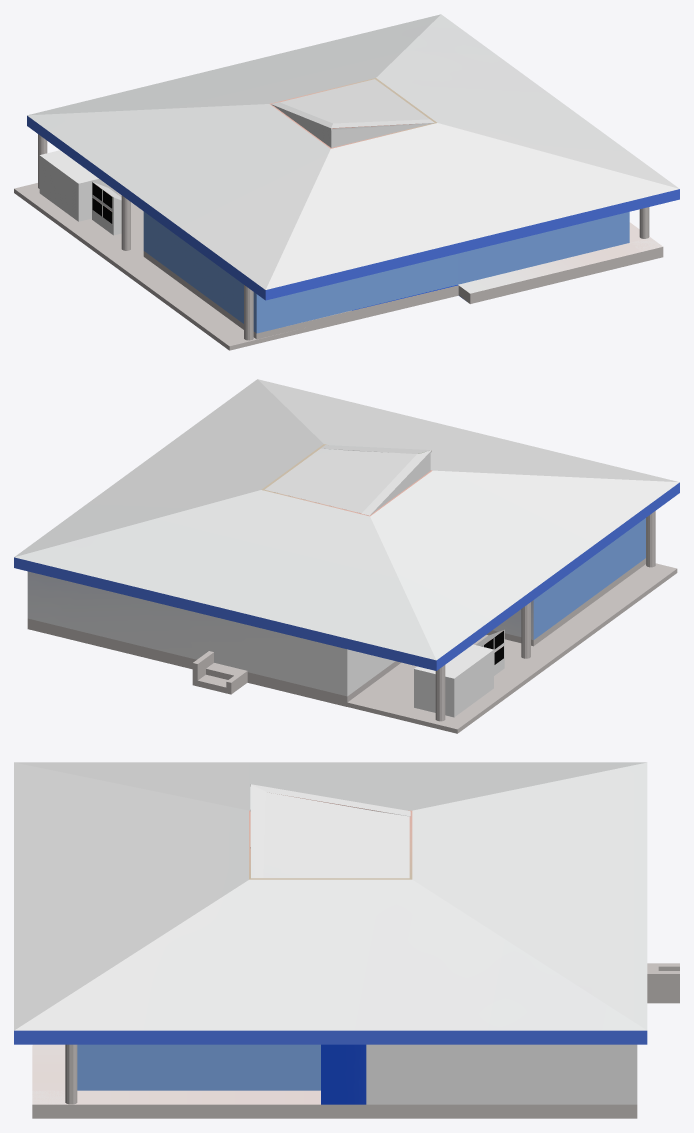
Rendered from syoku.glb.
The picture shows the model from 3 angles, top to bottom: view 1: azimuth 30°, elevation 25°; view 2: azimuth 150°, elevation 25°; view 3: azimuth 270°, elevation 25°; orthographic projection. The views are drawn at different scales.
Visible parts, largest first — view 1: 食堂・屋根・土台, 食堂, 立方体.014, 食堂・屋根・上の部分, 立方体.365, 立方体.366, 立方体.356, 平面.001, 平面.004; view 2: 食堂・屋根・土台, 食堂, 立方体.014, 食堂・屋根・上の部分, 立方体.365, 立方体.387, 立方体.357, 平面.002, 平面.001, 平面.004; view 3: 食堂・屋根・土台, 食堂, 食堂・屋根・上の部分, 立方体.356, 立方体.387, 立方体.357, 平面.003.
Part boxes in pixels (x1,y1,x2,y2): 食堂・屋根・土台: (27, 14, 679, 300); 食堂: (143, 211, 663, 339); 立方体.014: (14, 183, 351, 350); 食堂・屋根・上の部分: (275, 79, 429, 147); 立方体.365: (39, 150, 117, 221); 立方体.366: (92, 182, 121, 235); 立方体.356: (331, 119, 434, 129); 平面.001: (121, 195, 130, 250); 平面.004: (244, 285, 253, 340); 食堂・屋根・土台: (14, 379, 679, 670); 食堂: (27, 518, 645, 706); 立方体.014: (347, 563, 677, 733); 食堂・屋根・上の部分: (265, 448, 430, 513); 立方体.365: (414, 644, 493, 717); 立方体.387: (192, 651, 247, 694); 立方体.357: (362, 450, 431, 515); 平面.002: (435, 665, 445, 721); 平面.001: (521, 602, 530, 658); 平面.004: (646, 511, 655, 567); 食堂・屋根・土台: (14, 762, 647, 1044); 食堂: (32, 1044, 637, 1118); 食堂・屋根・上の部分: (263, 792, 409, 878); 立方体.356: (250, 784, 265, 878); 立方体.387: (647, 963, 679, 1003); 立方体.357: (250, 784, 410, 816); 平面.003: (65, 1044, 77, 1104).
Bounding box in the file's own units: 6.74 × 1.94 × 6.8.
Materials: 1 (1 with a texture image).
